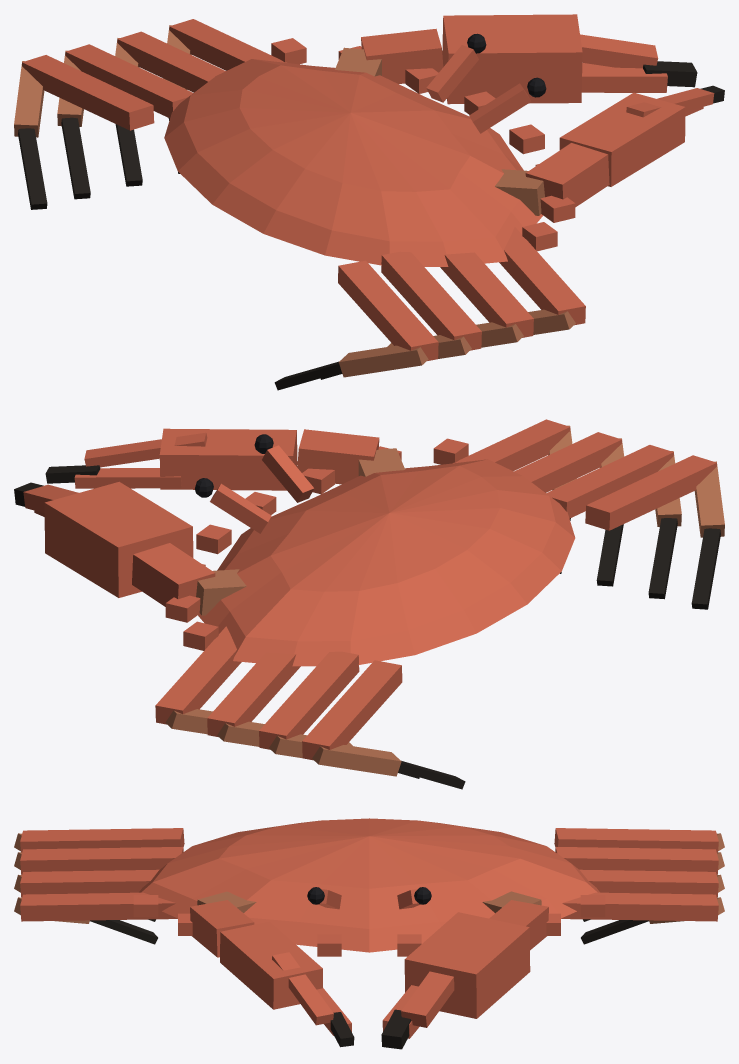
The model's file is taskekrabbe.glb.
The picture shows the model from 3 angles, top to bottom: view 1: azimuth 30°, elevation 25°; view 2: azimuth 150°, elevation 25°; view 3: azimuth 270°, elevation 25°; orthographic projection. The views are drawn at different scales.
Parts seen in each view (by area): view 1: Carapace, Claw palm, Claw palm.001, Leg merus.003, Leg merus.007, Leg merus.006, Leg merus.002, Leg merus.005, Leg merus.004, Claw wrist.001, Claw wrist, Leg merus.001 (+23 smaller); view 2: Carapace, Claw palm, Claw palm.001, Leg merus.007, Leg merus.003, Leg merus.002, Leg merus.006, Leg merus.001, Leg merus, Claw wrist, Claw wrist.001, Leg merus.005 (+23 smaller); view 3: Carapace, Claw palm, Claw palm.001, Leg merus.002, Leg merus.006, Leg merus, Leg merus.004, Leg merus.003, Leg merus.007, Leg merus.005, Leg merus.001, Claw wrist.001 (+14 smaller).
Boxes of the visible parts, left/top/right/bottom form: Carapace: left=164, top=59, right=543, bottom=266; Claw palm: left=442, top=14, right=582, bottom=104; Claw palm.001: left=559, top=92, right=685, bottom=186; Leg merus.003: left=22, top=55, right=154, bottom=130; Leg merus.007: left=338, top=260, right=438, bottom=360; Leg merus.006: left=381, top=251, right=481, bottom=350; Leg merus.002: left=65, top=44, right=192, bottom=118; Leg merus.005: left=440, top=252, right=533, bottom=337; Leg merus.004: left=499, top=227, right=585, bottom=325; Claw wrist.001: left=525, top=143, right=609, bottom=207; Claw wrist: left=361, top=28, right=443, bottom=83; Leg merus.001: left=117, top=31, right=225, bottom=92; Carapace: left=198, top=459, right=575, bottom=666; Claw palm: left=44, top=481, right=193, bottom=597; Claw palm.001: left=159, top=428, right=297, bottom=490; Leg merus.007: left=585, top=455, right=716, bottom=530; Leg merus.003: left=302, top=660, right=402, bottom=760; Leg merus.002: left=259, top=651, right=359, bottom=749; Leg merus.006: left=546, top=445, right=673, bottom=518; Leg merus.001: left=207, top=652, right=300, bottom=737; Leg merus: left=155, top=626, right=241, bottom=724; Claw wrist: left=132, top=543, right=215, bottom=606; Claw wrist.001: left=297, top=429, right=379, bottom=484; Leg merus.005: left=514, top=432, right=621, bottom=492; Carapace: left=139, top=818, right=599, bottom=952; Claw palm: left=404, top=912, right=530, bottom=1018; Claw palm.001: left=220, top=921, right=322, bottom=1009; Leg merus.002: left=555, top=847, right=718, bottom=874; Leg merus.006: left=20, top=847, right=183, bottom=874; Leg merus: left=561, top=892, right=718, bottom=921; Leg merus.004: left=20, top=892, right=177, bottom=921; Leg merus.003: left=554, top=828, right=718, bottom=852; Leg merus.007: left=20, top=828, right=184, bottom=852; Leg merus.005: left=20, top=869, right=159, bottom=897; Leg merus.001: left=579, top=869, right=718, bottom=897; Claw wrist.001: left=190, top=900, right=254, bottom=957.
Size of the model in its own units: 1.29 by 0.3477 by 1.6.
